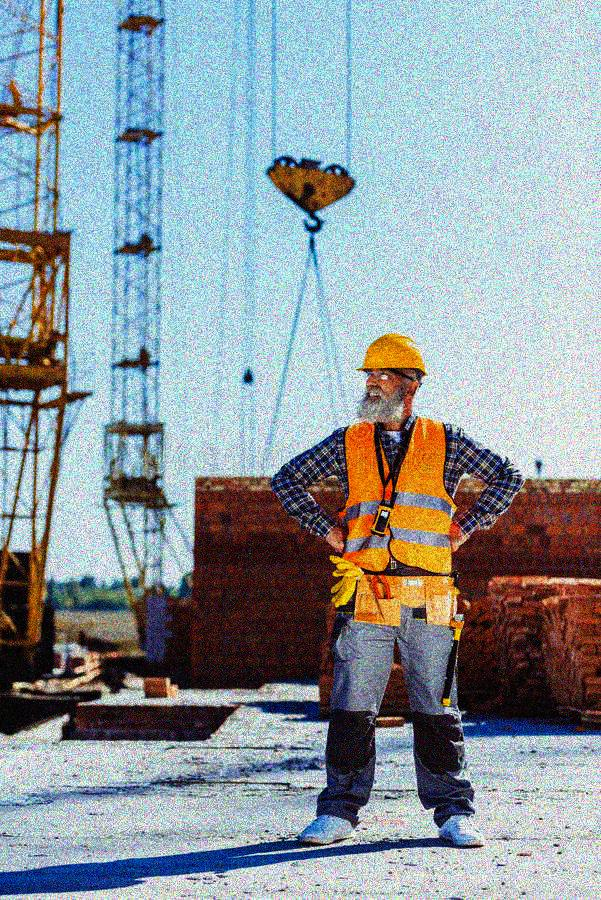helmet: (355, 333, 427, 418)
